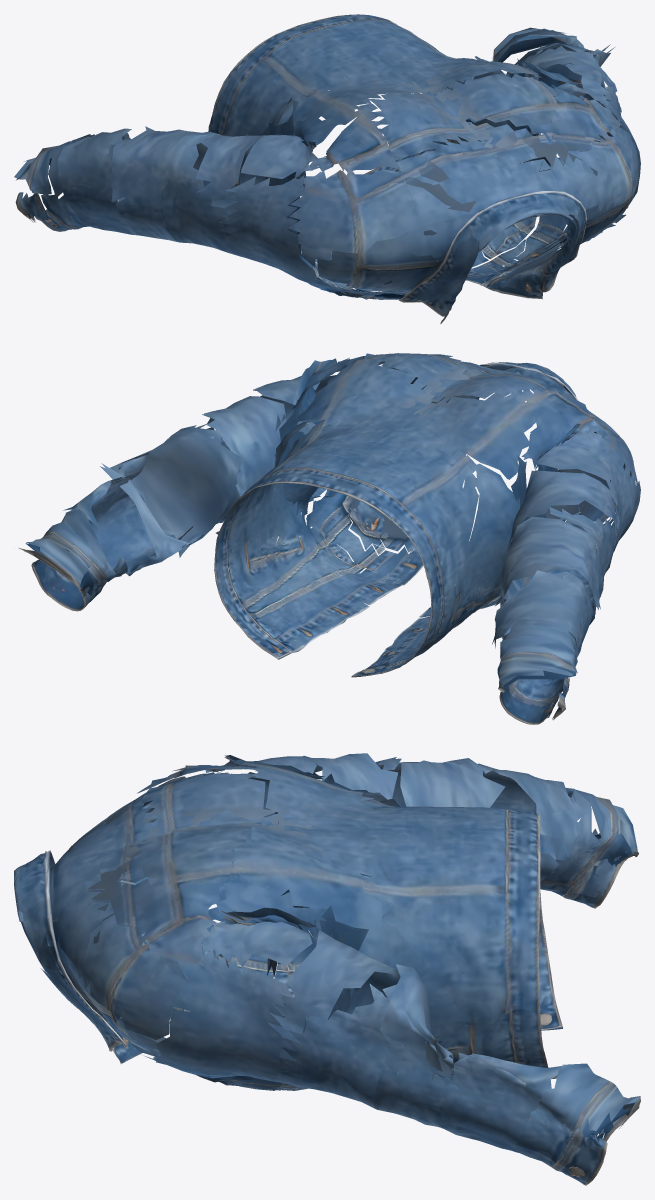
File: adult-base-01.glb
3 renders of one model, top to bottom at view 1: azimuth 30°, elevation 25°; view 2: azimuth 150°, elevation 25°; view 3: azimuth 270°, elevation 25°, orthographic. The views are drawn at different scales.
Visible parts, largest first — view 1: geometry_0; view 2: geometry_0; view 3: geometry_0.
Boxes of the visible parts, box(x1,y1,x2,y2) form: geometry_0: box(14, 14, 640, 323); geometry_0: box(18, 353, 640, 724); geometry_0: box(14, 753, 640, 1185).
Bounding box in the file's own units: 0.00863 × 0.00301 × 0.00687.
Materials: 1 (1 with a texture image).
